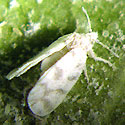whitefly: (5, 7, 120, 118)
